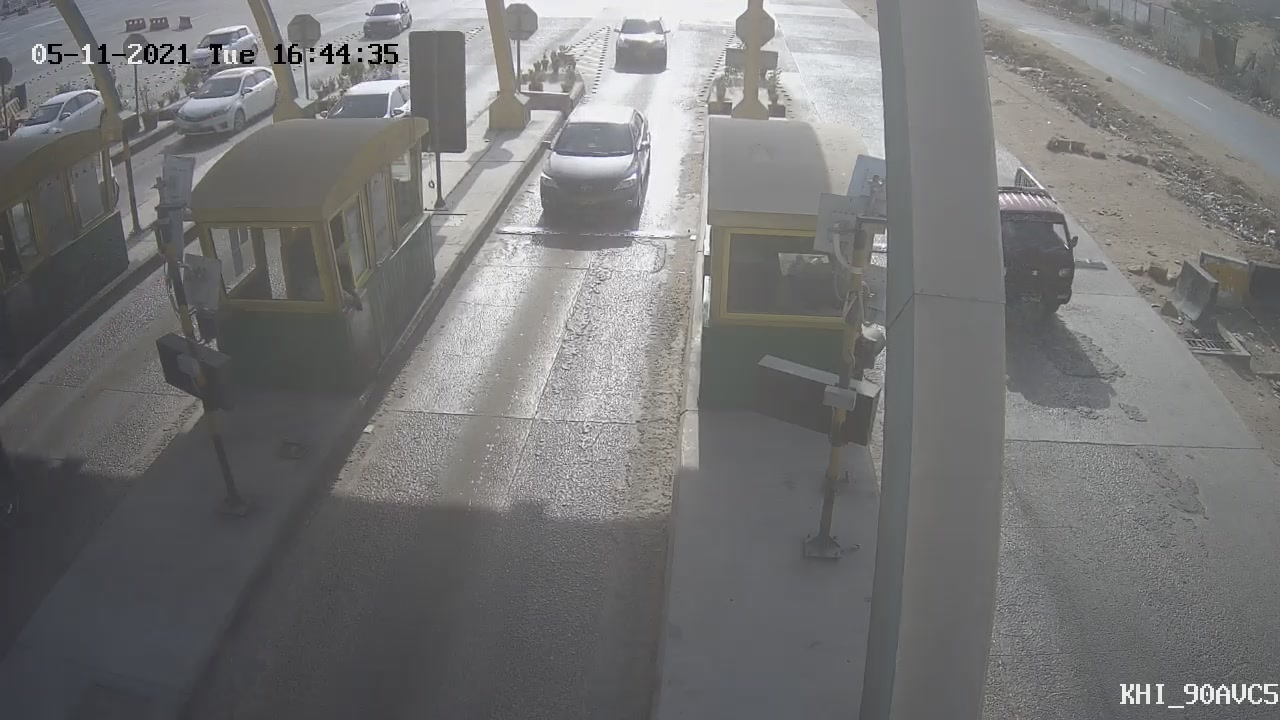F1: (518, 91, 670, 243)
